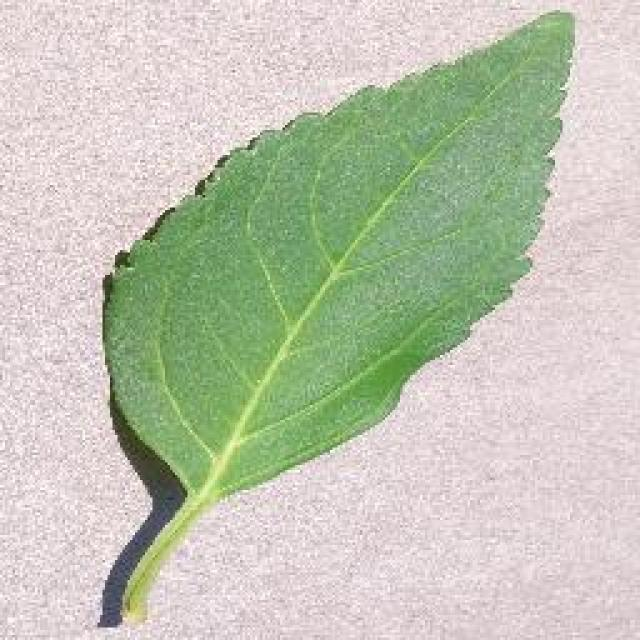Cherry___healthy: (82, 10, 588, 635)
